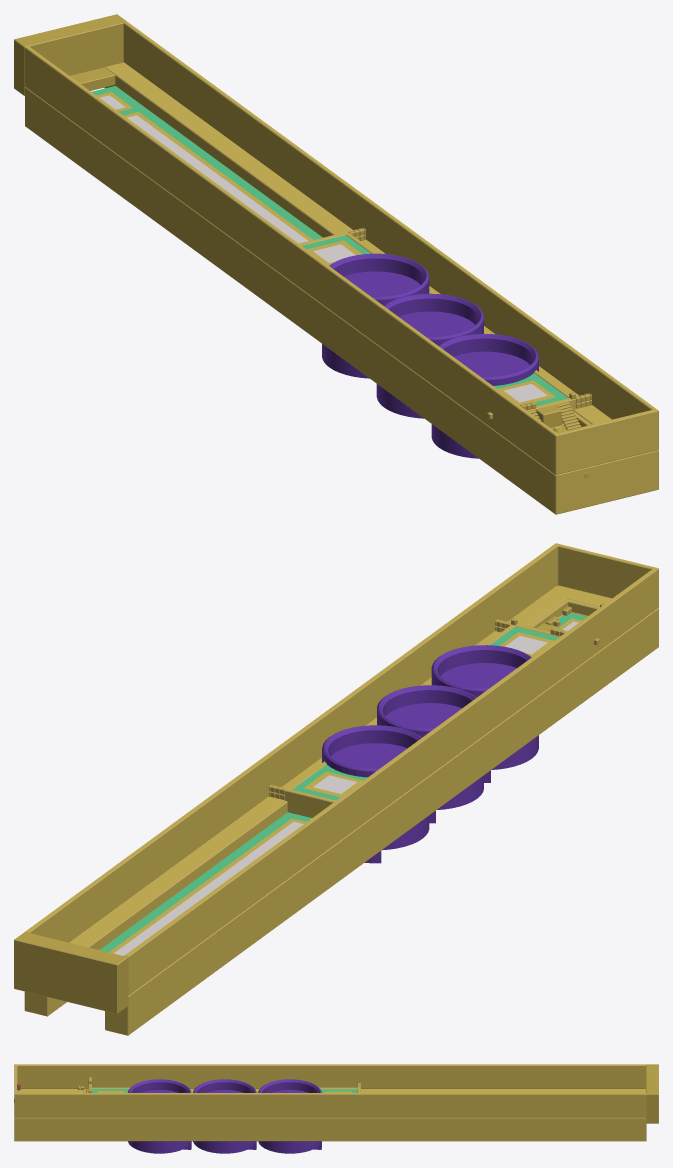
The model's file is RoomA.fbx.
3 renders of one model, top to bottom at view 1: azimuth 30°, elevation 25°; view 2: azimuth 150°, elevation 25°; view 3: azimuth 270°, elevation 25°, orthographic. The views are drawn at different scales.
Parts seen in each view (by area): view 1: polySurface125_polySurface113, polySurface125_polySurface125, Test142, pCube67, pCylinder5, pCylinder7, pCylinder6, polySurface125_polySurface121, polySurface125_polySurface124, pCube64, pCube66; view 2: polySurface125_polySurface113, polySurface125_polySurface125, Test142, pCube67, pCylinder7, pCylinder5, pCylinder6, polySurface125_polySurface121, polySurface125_polySurface124, pCube66, pCube64, polySurface125_polySurface126; view 3: polySurface125_polySurface113, polySurface125_polySurface125, polySurface125_polySurface121, polySurface125_polySurface124, pCylinder5, pCylinder6, pCylinder7, Test142.
Boxes of the visible parts, x1,y1,x2,y2 form: polySurface125_polySurface113: (25, 22, 658, 474); polySurface125_polySurface125: (25, 62, 658, 514); Test142: (14, 14, 126, 95); pCube67: (119, 106, 322, 243); pCylinder5: (431, 334, 538, 458); pCylinder7: (322, 253, 429, 378); pCylinder6: (376, 293, 483, 418); polySurface125_polySurface121: (25, 22, 658, 474); polySurface125_polySurface124: (25, 67, 658, 514); pCube64: (493, 373, 568, 406); pCube66: (302, 235, 370, 265); polySurface125_polySurface113: (25, 543, 658, 995); polySurface125_polySurface125: (24, 585, 658, 1035); Test142: (14, 932, 127, 1013); pCube67: (99, 812, 311, 955); pCylinder7: (322, 725, 429, 863); pCylinder5: (431, 645, 538, 782); pCylinder6: (377, 685, 483, 823); polySurface125_polySurface121: (25, 545, 658, 995); polySurface125_polySurface124: (25, 598, 658, 1035); pCube66: (292, 764, 367, 800); pCube64: (490, 627, 558, 656); polySurface125_polySurface126: (285, 761, 335, 817); polySurface125_polySurface113: (14, 1064, 645, 1117); polySurface125_polySurface125: (14, 1089, 645, 1140); polySurface125_polySurface121: (14, 1064, 646, 1117); polySurface125_polySurface124: (14, 1089, 646, 1141); pCylinder5: (128, 1079, 191, 1153); pCylinder6: (193, 1079, 256, 1153); pCylinder7: (258, 1079, 321, 1153); Test142: (646, 1064, 658, 1123).
Size of the model in its own units: 2272 by 2343 by 19906.
